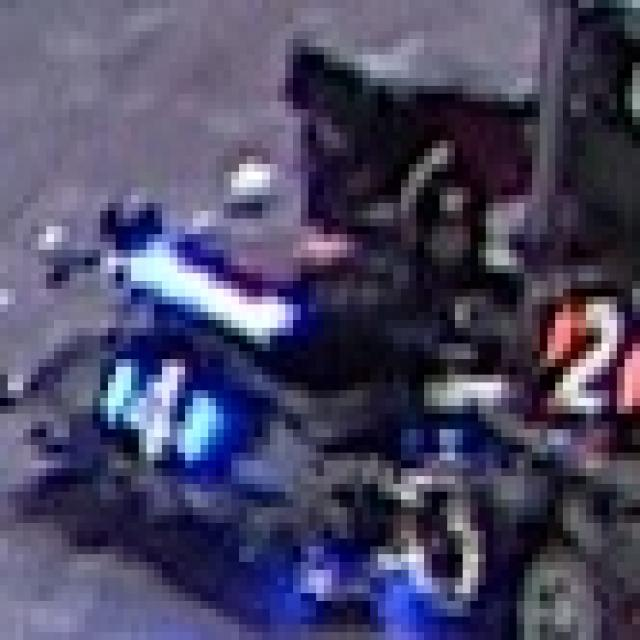B4: (77, 336, 231, 476)
R2: (532, 273, 640, 422)
